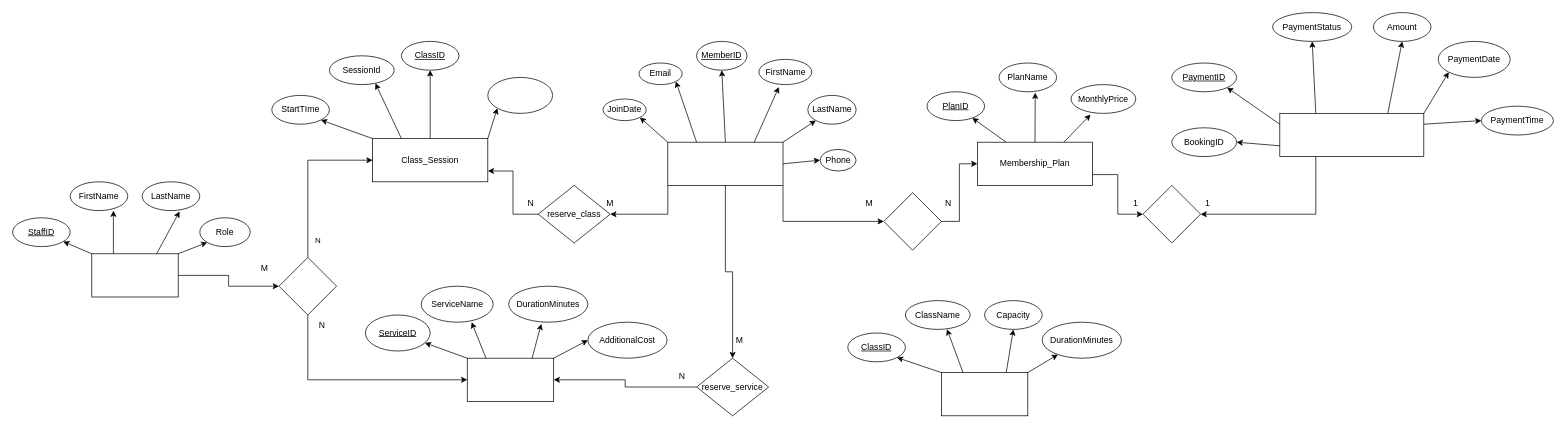
Image size: 1566x428. Some labels were removed from this diagram. Here are the shapes that lost their labels. From the top down, the centre of each, then its label:
At (520,95): "SessionDate".
At (1351,135): "Payment".
At (725,163): "Member".
At (912,221): "Book".
At (1171,214): "has".
At (134,275): "Staff".
At (307,286): "works_on".
At (510,379): "Spa_Service".
At (984,394): "Class_Catalog".
